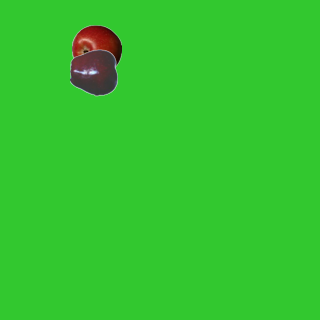Apple Braeburn: (71, 24, 121, 74)
Apple Red Delicious: (69, 47, 119, 97)
